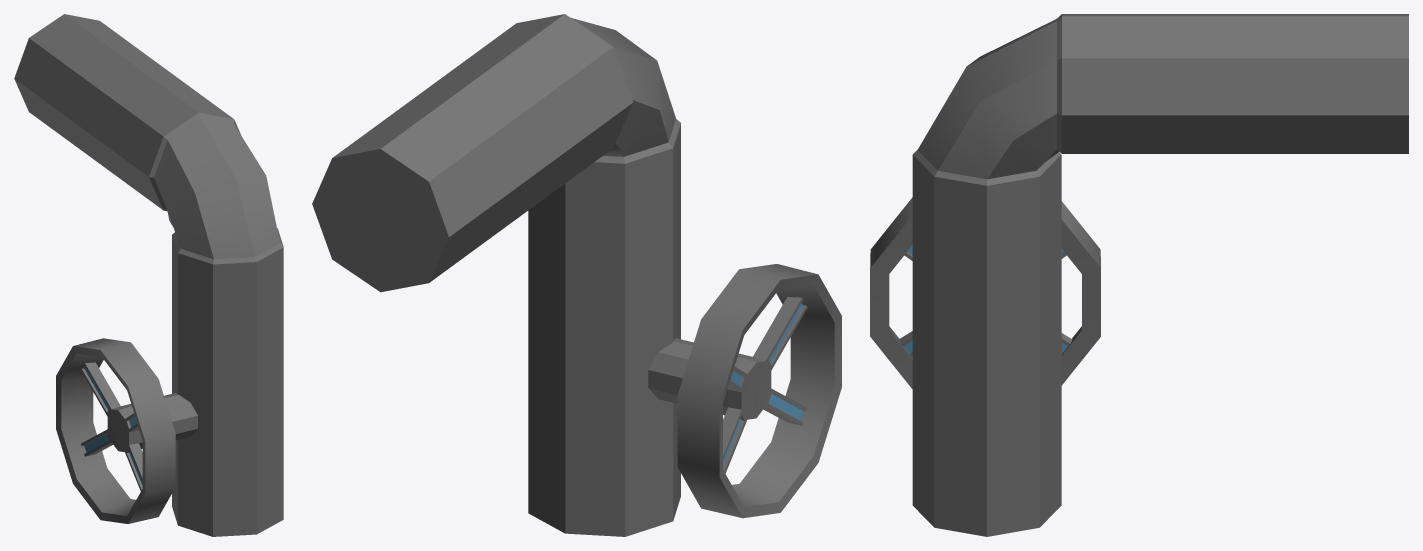
3 views of the same model, side by side, from view 1: azimuth 30°, elevation 25°; view 2: azimuth 150°, elevation 25°; view 3: azimuth 270°, elevation 25° (orthographic). The views are drawn at different scales.
Visible parts, largest first — view 1: SM_B_Part2; view 2: SM_B_Part2; view 3: SM_B_Part2.
Part boxes in pixels (x1,y1,x2,y2): SM_B_Part2: (14, 14, 283, 536); SM_B_Part2: (312, 14, 841, 536); SM_B_Part2: (870, 14, 1408, 536).
Bounding box in the file's own units: 105 × 214 × 214.
Materials: 1 (1 with a texture image).
